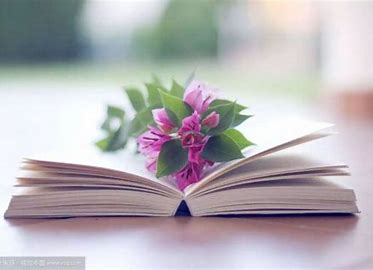book: (1, 113, 363, 225)
